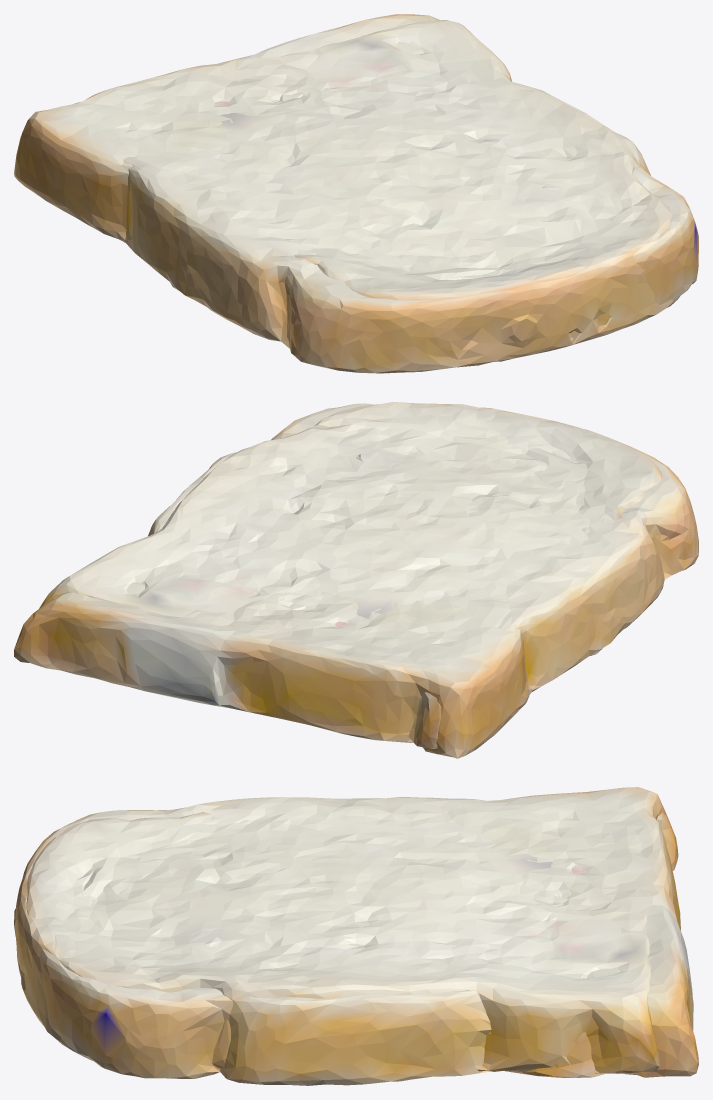
The picture shows the model from 3 angles, top to bottom: view 1: azimuth 30°, elevation 25°; view 2: azimuth 150°, elevation 25°; view 3: azimuth 270°, elevation 25°; orthographic projection. The views are drawn at different scales.
Visible parts, largest first — view 1: world; view 2: world; view 3: world.
Part boxes in pixels (left/top/right/bottom): world: left=14, top=14, right=698, bottom=373; world: left=14, top=402, right=698, bottom=758; world: left=14, top=787, right=698, bottom=1085.
Size of the model in its own units: 0.107 by 0.0191 by 0.1354.
